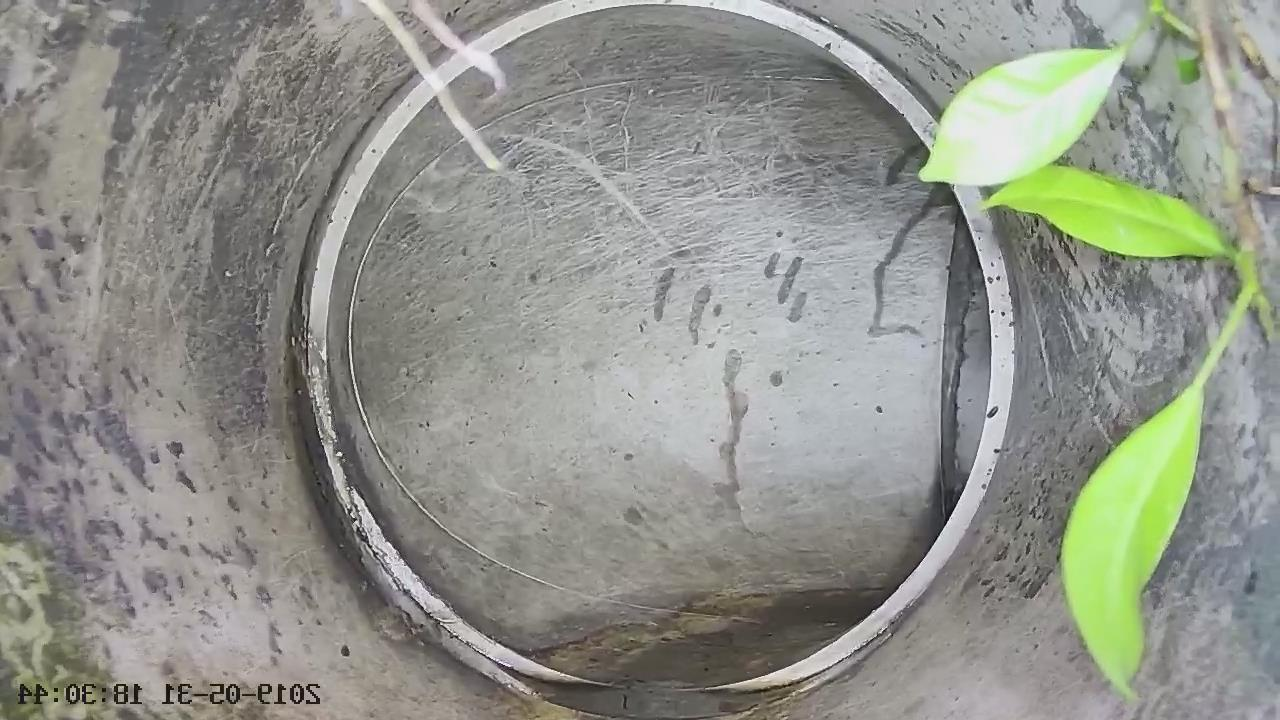CKTJ: (303, 55, 611, 697), (680, 186, 1016, 690), (471, 0, 934, 146)
